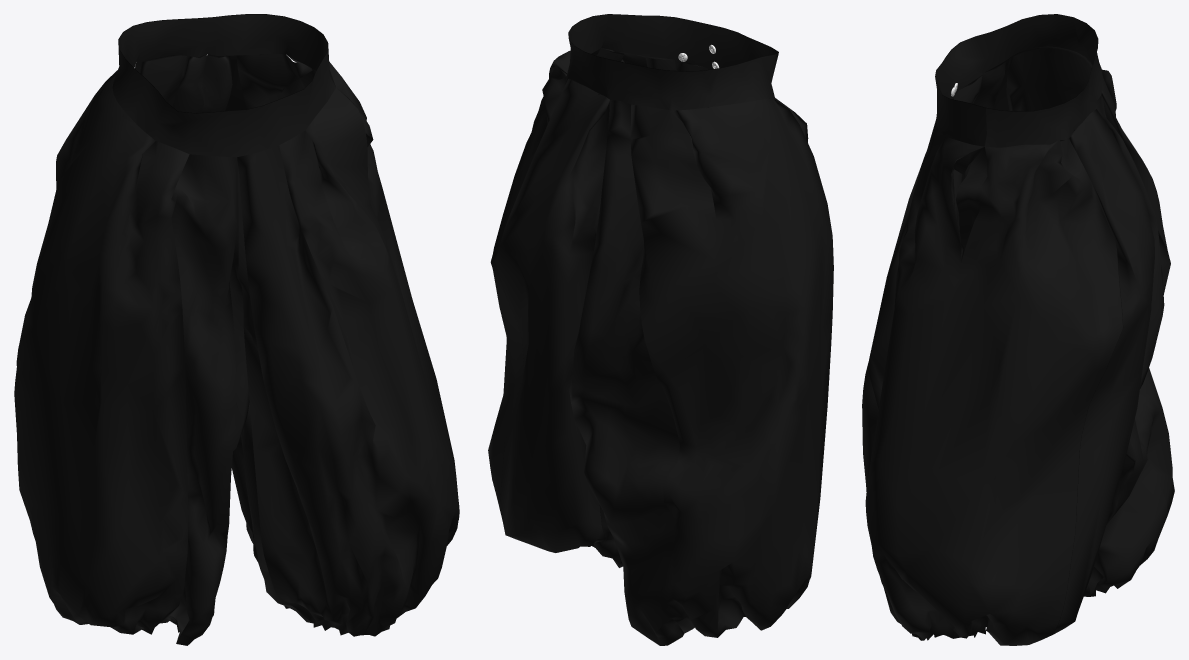
The picture shows the model from 3 angles, left to right: view 1: azimuth 30°, elevation 25°; view 2: azimuth 150°, elevation 25°; view 3: azimuth 270°, elevation 25°; orthographic projection. The views are drawn at different scales.
Visible parts, largest first — view 1: Cloth.001; view 2: Cloth.001; view 3: Cloth.001.
Boxes of the visible parts, <box> form: Cloth.001: <box>14,14,459,645</box>; Cloth.001: <box>488,14,833,645</box>; Cloth.001: <box>862,14,1174,645</box>.
Size of the model in its own units: 0.4887 by 0.7339 by 0.376.
2 materials, 2 textured.
